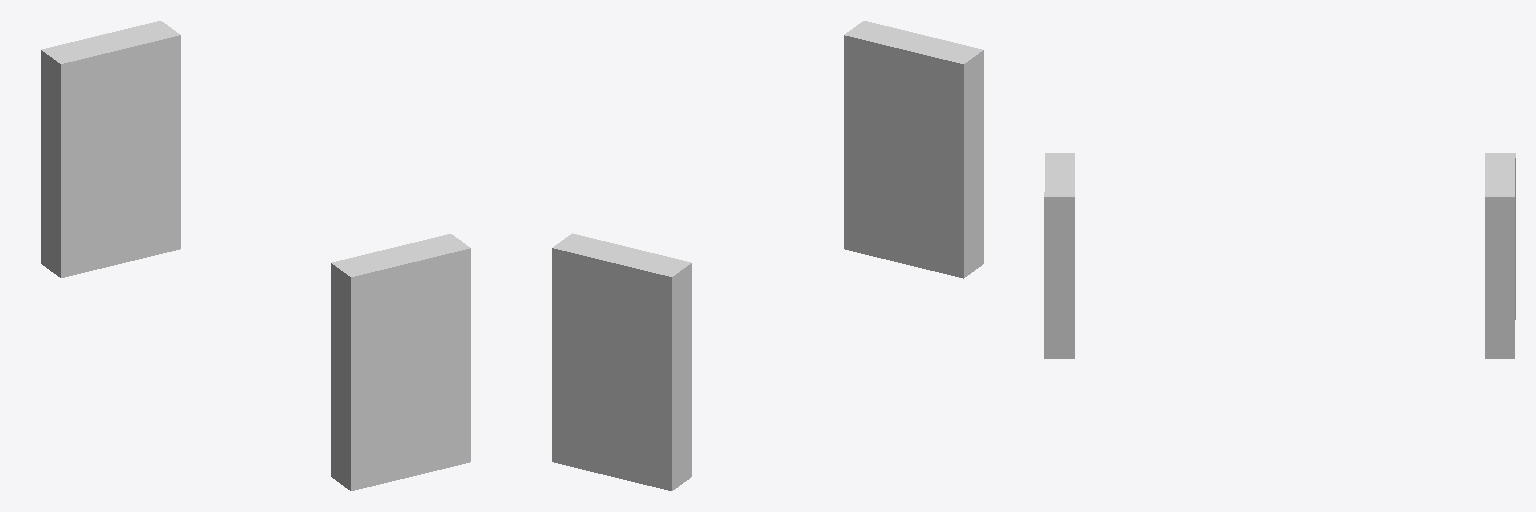
URDF robot description (gen3_robotiq_2f_85):
<?xml version="1.0" ?>
<!-- =================================================================================== -->
<!-- |    This document was autogenerated by xacro from robots/gen3_robotiq_2f_85.xacro | -->
<!-- |    EDITING THIS FILE BY HAND IS NOT RECOMMENDED                                 | -->
<!-- =================================================================================== -->
<robot name="gen3_robotiq_2f_85">
  <!-- Run the macros -->
  <!-- For gazebo and DART -->

  <link name="base_link">
    <inertial>
      <origin rpy="0 0 0" xyz="-0.000648 -0.000166 0.084487"/>
      <mass value="1.697"/>
      <inertia ixx="0.004622" ixy="9E-06" ixz="6E-05" iyy="0.004495" iyz="9E-06" izz="0.002079"/>
    </inertial>
    <visual>
      <origin rpy="0 0 0" xyz="0 0 0"/>
      <geometry>
        <mesh filename="meshes/base_link.STL"/>
      </geometry>
      <material name="">
        <color rgba="0.75294 0.75294 0.75294 1"/>
      </material>
    </visual>
    <collision>
      <origin rpy="0 0 0" xyz="0 0 0"/>
      <geometry>
        <mesh filename="meshes/base_link.STL"/>
      </geometry>
    </collision>
  </link>
  <link name="shoulder_link">
    <inertial>
      <origin rpy="0 0 0" xyz="-2.3E-05 -0.010364 -0.07336"/>
      <mass value="1.3773"/>
      <inertia ixx="0.00457" ixy="1E-06" ixz="2E-06" iyy="0.004831" iyz="0.000448" izz="0.001409"/>
    </inertial>
    <visual>
      <origin rpy="0 0 0" xyz="0 0 0"/>
      <geometry>
        <mesh filename="meshes/shoulder_link.STL"/>
      </geometry>
      <material name="">
        <color rgba="0.75294 0.75294 0.75294 1"/>
      </material>
    </visual>
    <collision>
      <origin rpy="0 0 0" xyz="0 0 0"/>
      <geometry>
        <mesh filename="meshes/shoulder_link.STL"/>
      </geometry>
    </collision>
  </link>
  <joint name="joint_1" type="revolute">
    <origin rpy="3.1416 2.7629E-18 -4.9305E-36" xyz="0 0 0.15643"/>
    <parent link="base_link"/>
    <child link="shoulder_link"/>
    <axis xyz="0 0 1"/>
    <limit effort="39" lower="-6.0" upper="6.0" velocity="1.3963"/>
  </joint>
  <link name="half_arm_1_link">
    <inertial>
      <origin rpy="0 0 0" xyz="-4.4E-05 -0.09958 -0.013278"/>
      <mass value="1.1636"/>
      <inertia ixx="0.011088" ixy="5E-06" ixz="0" iyy="0.001072" iyz="-0.000691" izz="0.011255"/>
    </inertial>
    <visual>
      <origin rpy="0 0 0" xyz="0 0 0"/>
      <geometry>
        <mesh filename="meshes/half_arm_1_link.STL"/>
      </geometry>
      <material name="">
        <color rgba="0.75294 0.75294 0.75294 1"/>
      </material>
    </visual>
    <collision>
      <origin rpy="0 0 0" xyz="0 0 0"/>
      <geometry>
        <mesh filename="meshes/half_arm_1_link.STL"/>
      </geometry>
    </collision>
  </link>
  <joint name="joint_2" type="revolute">
    <origin rpy="1.5708 2.1343E-17 -1.1102E-16" xyz="0 0.005375 -0.12838"/>
    <parent link="shoulder_link"/>
    <child link="half_arm_1_link"/>
    <axis xyz="0 0 1"/>
    <limit effort="39" lower="-2.41" upper="2.41" velocity="1.3963"/>
  </joint>
  <link name="half_arm_2_link">
    <inertial>
      <origin rpy="0 0 0" xyz="-4.4E-05 -0.006641 -0.117892"/>
      <mass value="1.1636"/>
      <inertia ixx="0.010932" ixy="0" ixz="-7E-06" iyy="0.011127" iyz="0.000606" izz="0.001043"/>
    </inertial>
    <visual>
      <origin rpy="0 0 0" xyz="0 0 0"/>
      <geometry>
        <mesh filename="meshes/half_arm_2_link.STL"/>
      </geometry>
      <material name="">
        <color rgba="0.75294 0.75294 0.75294 1"/>
      </material>
    </visual>
    <collision>
      <origin rpy="0 0 0" xyz="0 0 0"/>
      <geometry>
        <mesh filename="meshes/half_arm_2_link.STL"/>
      </geometry>
    </collision>
  </link>
  <joint name="joint_3" type="revolute">
    <origin rpy="-1.5708 1.2326E-32 -2.9122E-16" xyz="0 -0.21038 -0.006375"/>
    <parent link="half_arm_1_link"/>
    <child link="half_arm_2_link"/>
    <axis xyz="0 0 1"/>
    <limit effort="39"  lower="-6.0" upper="6.0" velocity="1.3963"/>
  </joint>
  <link name="forearm_link">
    <inertial>
      <origin rpy="0 0 0" xyz="-1.8E-05 -0.075478 -0.015006"/>
      <mass value="0.9302"/>
      <inertia ixx="0.008147" ixy="-1E-06" ixz="0" iyy="0.000631" iyz="-0.0005" izz="0.008316"/>
    </inertial>
    <visual>
      <origin rpy="0 0 0" xyz="0 0 0"/>
      <geometry>
        <mesh filename="meshes/forearm_link.STL"/>
      </geometry>
      <material name="">
        <color rgba="0.75294 0.75294 0.75294 1"/>
      </material>
    </visual>
    <collision>
      <origin rpy="0 0 0" xyz="0 0 0"/>
      <geometry>
        <mesh filename="meshes/forearm_link.STL"/>
      </geometry>
    </collision>
  </link>
  <joint name="joint_4" type="revolute">
    <origin rpy="1.5708 -6.6954E-17 -1.6653E-16" xyz="0 0.006375 -0.21038"/>
    <parent link="half_arm_2_link"/>
    <child link="forearm_link"/>
    <axis xyz="0 0 1"/>
    <limit effort="39" lower="-2.66" upper="2.66" velocity="1.3963"/>
  </joint>
  <link name="spherical_wrist_1_link">
    <inertial>
      <origin rpy="0 0 0" xyz="1E-06 -0.009432 -0.063883"/>
      <mass value="0.6781"/>
      <inertia ixx="0.001596" ixy="0" ixz="0" iyy="0.001607" iyz="0.000256" izz="0.000399"/>
    </inertial>
    <visual>
      <origin rpy="0 0 0" xyz="0 0 0"/>
      <geometry>
        <mesh filename="meshes/spherical_wrist_1_link.STL"/>
      </geometry>
      <material name="">
        <color rgba="0.75294 0.75294 0.75294 1"/>
      </material>
    </visual>
    <collision>
      <origin rpy="0 0 0" xyz="0 0 0"/>
      <geometry>
        <mesh filename="meshes/spherical_wrist_1_link.STL"/>
      </geometry>
    </collision>
  </link>
  <joint name="joint_5" type="revolute">
    <origin rpy="-1.5708 2.2204E-16 -6.373E-17" xyz="0 -0.20843 -0.006375"/>
    <parent link="forearm_link"/>
    <child link="spherical_wrist_1_link"/>
    <axis xyz="0 0 1"/>
    <limit effort="9" lower="-6.0" upper="6.0"  velocity="1.2218"/>
  </joint>
  <link name="spherical_wrist_2_link">
    <inertial>
      <origin rpy="0 0 0" xyz="1E-06 -0.045483 -0.00965"/>
      <mass value="0.6781"/>
      <inertia ixx="0.001641" ixy="0" ixz="0" iyy="0.00041" iyz="-0.000278" izz="0.001641"/>
    </inertial>
    <visual>
      <origin rpy="0 0 0" xyz="0 0 0"/>
      <geometry>
        <mesh filename="meshes/spherical_wrist_2_link.STL"/>
      </geometry>
      <material name="">
        <color rgba="0.75294 0.75294 0.75294 1"/>
      </material>
    </visual>
    <collision>
      <origin rpy="0 0 0" xyz="0 0 0"/>
      <geometry>
        <mesh filename="meshes/spherical_wrist_2_link.STL"/>
      </geometry>
    </collision>
  </link>
  <joint name="joint_6" type="revolute">
    <origin rpy="1.5708 9.2076E-28 -8.2157E-15" xyz="0 0.00017505 -0.10593"/>
    <parent link="spherical_wrist_1_link"/>
    <child link="spherical_wrist_2_link"/>
    <axis xyz="0 0 1"/>
    <limit effort="9" lower="-2.23" upper="2.23" velocity="1.2218"/>
  </joint>
  <link name="bracelet_link">
    <inertial>
      <origin rpy="0 0 0" xyz="0.000281 0.011402 -0.029798"/>
      <mass value="0.5"/>
      <inertia ixx="0.000587" ixy="3E-06" ixz="3E-06" iyy="0.000369" iyz="-0.000118" izz="0.000609"/>
    </inertial>
    <visual>
      <origin rpy="0 0 0" xyz="0 0 0"/>
      <geometry>
        <mesh filename="meshes/bracelet_with_vision_link.STL"/>
      </geometry>
      <material name="">
        <color rgba="0.75294 0.75294 0.75294 1"/>
      </material>
    </visual>
    <collision>
      <origin rpy="0 0 0" xyz="0 0 0"/>
      <geometry>
        <mesh filename="meshes/bracelet_with_vision_link.STL"/>
      </geometry>
    </collision>
  </link>
  <joint name="joint_7" type="revolute">
    <origin rpy="-1.5708 -5.5511E-17 9.6396E-17" xyz="0 -0.10593 -0.00017505"/>
    <parent link="spherical_wrist_2_link"/>
    <child link="bracelet_link"/>
    <axis xyz="0 0 1"/>
    <limit effort="9"  lower="-6.0" upper="6.0" velocity="1.2218"/>
  </joint>
  <link name="end_effector_link"/>
  <joint name="end_effector" type="fixed">
    <origin rpy="3.14159265358979 1.09937075168372E-32 0" xyz="0 0 -0.0615250000000001"/>
    <parent link="bracelet_link"/>
    <child link="end_effector_link"/>
    <axis xyz="0 0 0"/>
  </joint>
  <link name="camera_link"/>
  <joint name="camera_module" type="fixed">
    <origin rpy="3.14159265358979 3.14159265358979 0" xyz="0 0.05639 -0.00305"/>
    <parent link="end_effector_link"/>
    <child link="camera_link"/>
  </joint>
  <link name="camera_depth_frame"/>
  <joint name="depth_module" type="fixed">
    <origin rpy="3.14159265358979 3.14159265358979 0" xyz="0.0275 0.066 -0.00305"/>
    <parent link="end_effector_link"/>
    <child link="camera_depth_frame"/>
  </joint>
  <link name="camera_color_frame"/>
  <joint name="color_module" type="fixed">
    <origin rpy="3.14159265358979 3.14159265358979 0" xyz="0 0.05639 -0.00305"/>
    <parent link="end_effector_link"/>
    <child link="camera_color_frame"/>
  </joint>
  <!-- This line was removed by Kinova because we replaced the transmission file with our own
    <xacro:include filename="$(find robotiq_2f_85_gripper_visualization)/urdf/robotiq_arg2f_transmission.xacro" /> -->
  <!-- This joint was added by Kinova -->
  <joint name="gripper_base_joint" type="fixed">
    <parent link="end_effector_link"/>
    <child link="robotiq_arg2f_base_link"/>
    <origin rpy="0.0 0.0 3.14" xyz="0.0 0.0 0.0"/>
  </joint>
  <link name="robotiq_arg2f_base_link">
    <inertial>
      <origin rpy="0 0 0" xyz="8.625E-08 -4.6583E-06 0.03145"/>
      <mass value="0.22652"/>
      <inertia ixx="0.00020005" ixy="-4.2442E-10" ixz="-2.9069E-10" iyy="0.00017832" iyz="-3.4402E-08" izz="0.00013478"/>
    </inertial>
    <visual>
      <origin rpy="0 0 0" xyz="0 0 0"/>
      <geometry>
        <!-- The DAE file doesn't show well in Gazebo so we're using the STL instead -->
        <mesh filename="../../../grippers/robotiq_2f_85/meshes/collision/robotiq_arg2f_base_link.stl"/>
      </geometry>
      <material name="">
        <color rgba="0.1 0.1 0.1 1"/>
      </material>
    </visual>
    <collision>
      <origin rpy="0 0 0" xyz="0 0 0"/>
      <geometry>
        <mesh filename="../../../grippers/robotiq_2f_85/meshes/collision/robotiq_arg2f_base_link.stl"/>
      </geometry>
    </collision>
  </link>
  <gazebo reference="robotiq_arg2f_base_link">
    <material>Gazebo/Black</material>
  </gazebo>
  <link name="left_outer_knuckle">
    <inertial>
      <origin rpy="0 0 0" xyz="-0.000200000000003065 0.0199435877845359 0.0292245259211331"/>
      <mass value="0.00853198276973456"/>
      <inertia ixx="2.89328108496468E-06" ixy="-1.57935047237397E-19" ixz="-1.93980378593255E-19" iyy="1.86719750325683E-06" iyz="-1.21858577871576E-06" izz="1.21905238907251E-06"/>
    </inertial>
    <visual>
      <origin rpy="0 0 0" xyz="0 0 0"/>
      <geometry>
        <mesh filename="../../../grippers/robotiq_2f_85/meshes/visual/robotiq_arg2f_85_outer_knuckle.dae" scale="0.001 0.001 0.001"/>
      </geometry>
      <material name="">
        <color rgba="0.792156862745098 0.819607843137255 0.933333333333333 1"/>
      </material>
    </visual>
    <collision>
      <origin rpy="0 0 0" xyz="0 0 0"/>
      <geometry>
        <mesh filename="../../../grippers/robotiq_2f_85/meshes/collision/robotiq_arg2f_85_outer_knuckle.dae" scale="0.001 0.001 0.001"/>
      </geometry>
    </collision>
  </link>
  <link name="left_outer_finger">
    <inertial>
      <origin rpy="0 0 0" xyz="0.00030115855001899 0.0373907951953854 -0.0208027427000385"/>
      <mass value="0.022614240507152"/>
      <inertia ixx="1.52518312458174E-05" ixy="9.76583423954399E-10" ixz="-5.43838577022588E-10" iyy="6.17694243867776E-06" iyz="6.78636130740228E-06" izz="1.16494917907219E-05"/>
    </inertial>
    <visual>
      <origin rpy="0 0 0" xyz="0 0 0"/>
      <geometry>
        <mesh filename="../../../grippers/robotiq_2f_85/meshes/visual/robotiq_arg2f_85_outer_finger.dae" scale="0.001 0.001 0.001"/>
      </geometry>
      <material name="">
        <color rgba="0.1 0.1 0.1 1"/>
      </material>
    </visual>
    <collision>
      <origin rpy="0 0 0" xyz="0 0 0"/>
      <geometry>
        <mesh filename="../../../grippers/robotiq_2f_85/meshes/collision/robotiq_arg2f_85_outer_finger.dae" scale="0.001 0.001 0.001"/>
      </geometry>
    </collision>
  </link>
  <link name="left_inner_finger">
    <inertial>
      <origin rpy="0 0 0" xyz="0.000299999999999317 0.0160078233491243 -0.0136945669206257"/>
      <mass value="0.0104003125914103"/>
      <inertia ixx="2.71909453810972E-06" ixy="1.35402465472579E-21" ixz="-7.1817349065269E-22" iyy="7.69100314106116E-07" iyz="6.74715432769696E-07" izz="2.30315190420171E-06"/>
    </inertial>
    <visual>
      <origin rpy="0 0 0" xyz="0 0 0"/>
      <geometry>
        <mesh filename="../../../grippers/robotiq_2f_85/meshes/visual/robotiq_arg2f_85_inner_finger.dae" scale="0.001 0.001 0.001"/>
      </geometry>
      <material name="">
        <color rgba="0.1 0.1 0.1 1"/>
      </material>
    </visual>
    <collision>
      <origin rpy="0 0 0" xyz="0 0 0"/>
      <geometry>
        <mesh filename="../../../grippers/robotiq_2f_85/meshes/collision/robotiq_arg2f_85_inner_finger.dae" scale="0.001 0.001 0.001"/>
      </geometry>
    </collision>
  </link>
  <link name="left_inner_finger_pad">
    <visual>
      <origin rpy="0 0 0" xyz="0 0 0"/>
      <geometry>
        <box size="0.022 0.00635 0.0375"/>
      </geometry>
      <material name="">
        <color rgba="0.9 0.9 0.9 1"/>
      </material>
    </visual>
    <collision>
      <origin rpy="0 0 0" xyz="0 0 0"/>
      <geometry>
        <box size="0.022 0.00635 0.0375"/>
      </geometry>
      <material name="">
        <color rgba="0.9 0.0 0.0 1"/>
      </material>
    </collision>
  </link>
  <link name="left_inner_knuckle">
    <inertial>
      <origin rpy="0 0 0" xyz="0.000123011831763771 0.0507850843201817 0.00103968640075166"/>
      <mass value="0.0271177346495152"/>
      <inertia ixx="2.61910379223783E-05" ixy="-2.43616858946494E-07" ixz="-6.37789906117123E-09" iyy="2.8270243746167E-06" iyz="-5.37200748039765E-07" izz="2.83695868220296E-05"/>
    </inertial>
    <visual>
      <origin rpy="0 0 0" xyz="0 0 0"/>
      <geometry>
        <mesh filename="../../../grippers/robotiq_2f_85/meshes/visual/robotiq_arg2f_85_inner_knuckle.dae" scale="0.001 0.001 0.001"/>
      </geometry>
      <material name="">
        <color rgba="0.1 0.1 0.1 1"/>
      </material>
    </visual>
    <collision>
      <origin rpy="0 0 0" xyz="0 0 0"/>
      <geometry>
        <mesh filename="../../../grippers/robotiq_2f_85/meshes/collision/robotiq_arg2f_85_inner_knuckle.dae" scale="0.001 0.001 0.001"/>
      </geometry>
    </collision>
  </link>
  <link name="right_outer_knuckle">
    <inertial>
      <origin rpy="0 0 0" xyz="-0.000200000000003065 0.0199435877845359 0.0292245259211331"/>
      <mass value="0.00853198276973456"/>
      <inertia ixx="2.89328108496468E-06" ixy="-1.57935047237397E-19" ixz="-1.93980378593255E-19" iyy="1.86719750325683E-06" iyz="-1.21858577871576E-06" izz="1.21905238907251E-06"/>
    </inertial>
    <visual>
      <origin rpy="0 0 0" xyz="0 0 0"/>
      <geometry>
        <mesh filename="../../../grippers/robotiq_2f_85/meshes/visual/robotiq_arg2f_85_outer_knuckle.dae" scale="0.001 0.001 0.001"/>
      </geometry>
      <material name="">
        <color rgba="0.792156862745098 0.819607843137255 0.933333333333333 1"/>
      </material>
    </visual>
    <collision>
      <origin rpy="0 0 0" xyz="0 0 0"/>
      <geometry>
        <mesh filename="../../../grippers/robotiq_2f_85/meshes/collision/robotiq_arg2f_85_outer_knuckle.dae" scale="0.001 0.001 0.001"/>
      </geometry>
    </collision>
  </link>
  <link name="right_outer_finger">
    <inertial>
      <origin rpy="0 0 0" xyz="0.00030115855001899 0.0373907951953854 -0.0208027427000385"/>
      <mass value="0.022614240507152"/>
      <inertia ixx="1.52518312458174E-05" ixy="9.76583423954399E-10" ixz="-5.43838577022588E-10" iyy="6.17694243867776E-06" iyz="6.78636130740228E-06" izz="1.16494917907219E-05"/>
    </inertial>
    <visual>
      <origin rpy="0 0 0" xyz="0 0 0"/>
      <geometry>
        <mesh filename="../../../grippers/robotiq_2f_85/meshes/visual/robotiq_arg2f_85_outer_finger.dae" scale="0.001 0.001 0.001"/>
      </geometry>
      <material name="">
        <color rgba="0.1 0.1 0.1 1"/>
      </material>
    </visual>
    <collision>
      <origin rpy="0 0 0" xyz="0 0 0"/>
      <geometry>
        <mesh filename="../../../grippers/robotiq_2f_85/meshes/collision/robotiq_arg2f_85_outer_finger.dae" scale="0.001 0.001 0.001"/>
      </geometry>
    </collision>
  </link>
  <link name="right_inner_finger">
    <inertial>
      <origin rpy="0 0 0" xyz="0.000299999999999317 0.0160078233491243 -0.0136945669206257"/>
      <mass value="0.0104003125914103"/>
      <inertia ixx="2.71909453810972E-06" ixy="1.35402465472579E-21" ixz="-7.1817349065269E-22" iyy="7.69100314106116E-07" iyz="6.74715432769696E-07" izz="2.30315190420171E-06"/>
    </inertial>
    <visual>
      <origin rpy="0 0 0" xyz="0 0 0"/>
      <geometry>
        <mesh filename="../../../grippers/robotiq_2f_85/meshes/visual/robotiq_arg2f_85_inner_finger.dae" scale="0.001 0.001 0.001"/>
      </geometry>
      <material name="">
        <color rgba="0.1 0.1 0.1 1"/>
      </material>
    </visual>
    <collision>
      <origin rpy="0 0 0" xyz="0 0 0"/>
      <geometry>
        <mesh filename="../../../grippers/robotiq_2f_85/meshes/collision/robotiq_arg2f_85_inner_finger.dae" scale="0.001 0.001 0.001"/>
      </geometry>
    </collision>
  </link>
  <link name="right_inner_finger_pad">
    <visual>
      <origin rpy="0 0 0" xyz="0 0 0"/>
      <geometry>
        <box size="0.022 0.00635 0.0375"/>
      </geometry>
      <material name="">
        <color rgba="0.9 0.9 0.9 1"/>
      </material>
    </visual>
    <collision>
      <origin rpy="0 0 0" xyz="0 0 0"/>
      <geometry>
        <box size="0.022 0.00635 0.0375"/>
      </geometry>
      <material name="">
        <color rgba="0.9 0.0 0.0 1"/>
      </material>
    </collision>
  </link>
  <link name="right_inner_knuckle">
    <inertial>
      <origin rpy="0 0 0" xyz="0.000123011831763771 0.0507850843201817 0.00103968640075166"/>
      <mass value="0.0271177346495152"/>
      <inertia ixx="2.61910379223783E-05" ixy="-2.43616858946494E-07" ixz="-6.37789906117123E-09" iyy="2.8270243746167E-06" iyz="-5.37200748039765E-07" izz="2.83695868220296E-05"/>
    </inertial>
    <visual>
      <origin rpy="0 0 0" xyz="0 0 0"/>
      <geometry>
        <mesh filename="../../../grippers/robotiq_2f_85/meshes/visual/robotiq_arg2f_85_inner_knuckle.dae" scale="0.001 0.001 0.001"/>
      </geometry>
      <material name="">
        <color rgba="0.1 0.1 0.1 1"/>
      </material>
    </visual>
    <collision>
      <origin rpy="0 0 0" xyz="0 0 0"/>
      <geometry>
        <mesh filename="../../../grippers/robotiq_2f_85/meshes/collision/robotiq_arg2f_85_inner_knuckle.dae" scale="0.001 0.001 0.001"/>
      </geometry>
    </collision>
  </link>

  <!-- Finger Joint -->
  <joint name="drive_joint" type="revolute">
    <origin rpy="0 0 3.141592653589793" xyz="0 -0.030601 0.054905"/>
    <parent link="robotiq_arg2f_base_link"/>
    <child link="left_outer_knuckle"/>
    <axis xyz="1 0 0"/>
    <limit effort="1000" lower="0.0" upper="0.7" velocity="2.0"/>
  </joint>
  <joint name="left_outer_finger_joint" type="fixed">
    <origin rpy="0 0 0" xyz="0 0.0315 -0.0041"/>
    <parent link="left_outer_knuckle"/>
    <child link="left_outer_finger"/>
  </joint>
  <joint name="left_inner_knuckle_joint" type="revolute">
    <origin rpy="0 0 3.141592653589793" xyz="0 -0.0127 0.06142"/>
    <parent link="robotiq_arg2f_base_link"/>
    <child link="left_inner_knuckle"/>
    <axis xyz="1 0 0"/>
    <limit lower="-0.8757" upper="0.8757" velocity="2.0" effort="1000" />
    <mimic joint="drive_joint" multiplier="1" offset="0" />
  </joint>
  <joint name="left_inner_finger_joint" type="revolute">
    <origin rpy="0 0 0" xyz="0 0.0061 0.0471"/>
    <parent link="left_outer_finger"/>
    <child link="left_inner_finger"/>
    <axis xyz="1 0 0"/>
    <limit effort="1000" lower="-0.8757" upper="0.8757" velocity="2.0"/>
    <mimic joint="drive_joint" multiplier="-1" offset="0" />
  </joint>
  <joint name="left_inner_finger_pad_joint" type="fixed">
    <origin rpy="0 0 0" xyz="0 -0.0220203446692936 0.03242"/>
    <parent link="left_inner_finger"/>
    <child link="left_inner_finger_pad"/>
  </joint>
  <joint name="right_outer_knuckle_joint" type="revolute">
    <origin rpy="0 0 0" xyz="0 0.0306011 0.054904"/>
    <parent link="robotiq_arg2f_base_link"/>
    <child link="right_outer_knuckle"/>
    <axis xyz="1 0 0"/>
    <limit effort="1000" lower="0" upper="0.8" velocity="2.0"/>
    <mimic joint="drive_joint" multiplier="1" offset="0" />
  </joint>
  <joint name="right_outer_finger_joint" type="fixed">
    <origin rpy="0 0 0" xyz="0 0.0315 -0.0041"/>
    <parent link="right_outer_knuckle"/>
    <child link="right_outer_finger"/>
  </joint>
  <joint name="right_inner_knuckle_joint" type="revolute">
    <origin rpy="0 0 0" xyz="0 0.0127 0.06142"/>
    <parent link="robotiq_arg2f_base_link"/>
    <child link="right_inner_knuckle"/>
    <axis xyz="1 0 0"/>
    <limit effort="1000" lower="-0.8757" upper="0.8757" velocity="2.0"/>
    <mimic joint="drive_joint" multiplier="1" offset="0" />
  </joint>
  <joint name="right_inner_finger_joint" type="revolute">
    <origin rpy="0 0 0" xyz="0 0.0061 0.0471"/>
    <parent link="right_outer_finger"/>
    <child link="right_inner_finger"/>
    <axis xyz="1 0 0"/>
    <limit effort="1000" lower="-0.8757" upper="0.8757" velocity="2.0"/>
    <mimic joint="drive_joint" multiplier="-1" offset="0" />
  </joint>
  <joint name="right_inner_finger_pad_joint" type="fixed">
    <origin rpy="0 0 0" xyz="0 -0.0220203446692936 0.03242"/>
    <parent link="right_inner_finger"/>
    <child link="right_inner_finger_pad"/>
  </joint>
  <!-- Grasp frame used by the arm -->
  <link name="grasp_frame">
    <inertial>
      <!-- Dummy inertial parameters to avoid link lumping-->
      <mass value="0.01"/>
      <inertia ixx="0.0001" ixy="0.0" ixz="0.0" iyy="0.0001" iyz="0.0" izz="0.0001"/>
      <origin rpy="0 0 0" xyz="0 0 0"/>
    </inertial>
  </link>
  <joint name="grasp_joint" type="fixed">
    <origin rpy="0 0 0" xyz="0 0 0.15"/>
    <parent link="robotiq_arg2f_base_link"/>
    <child link="grasp_frame"/>
    <axis xyz="0 0 0"/>
  </joint>
</robot>

--- Render facts (derived) ---
3 views of the same robot in one strip: view 1: azimuth 30°, elevation 25°; view 2: azimuth 150°, elevation 25°; view 3: azimuth 270°, elevation 25° (orthographic).
Model gen3_robotiq_2f_85 with 24 links and 23 joints (13 revolute, 10 fixed), rooted at base_link, posed every joint at zero.
Links seen in each view (by area): view 1: left_inner_finger_pad, right_inner_finger_pad; view 2: left_inner_finger_pad, right_inner_finger_pad; view 3: left_inner_finger_pad, right_inner_finger_pad.
Boxes of the visible links, bbox=[...] form: left_inner_finger_pad: bbox=[41, 21, 180, 277]; right_inner_finger_pad: bbox=[331, 234, 470, 490]; left_inner_finger_pad: bbox=[552, 233, 691, 490]; right_inner_finger_pad: bbox=[844, 21, 983, 278]; left_inner_finger_pad: bbox=[1485, 153, 1515, 358]; right_inner_finger_pad: bbox=[1044, 153, 1074, 358].
Size in the robot's own frame: 0.0222 by 0.0987 by 0.0375 metres.
Meshes: 13 distinct files referenced, 0 mesh visuals loaded (none loaded); not drawn: 17 (reference not matched to a file when rendering).